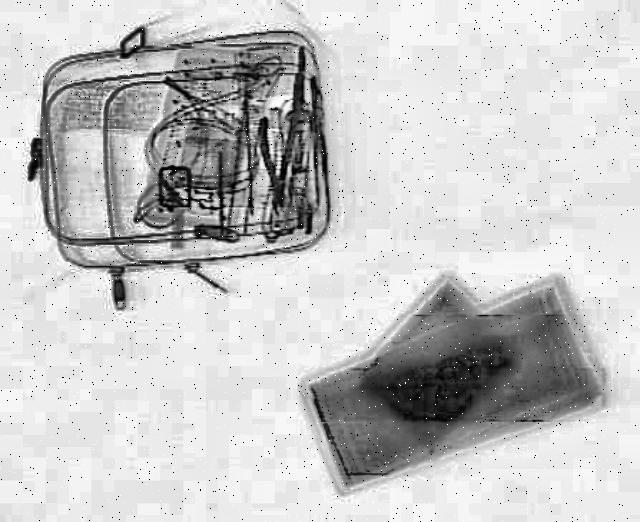Pliers: (255, 116, 298, 210)
